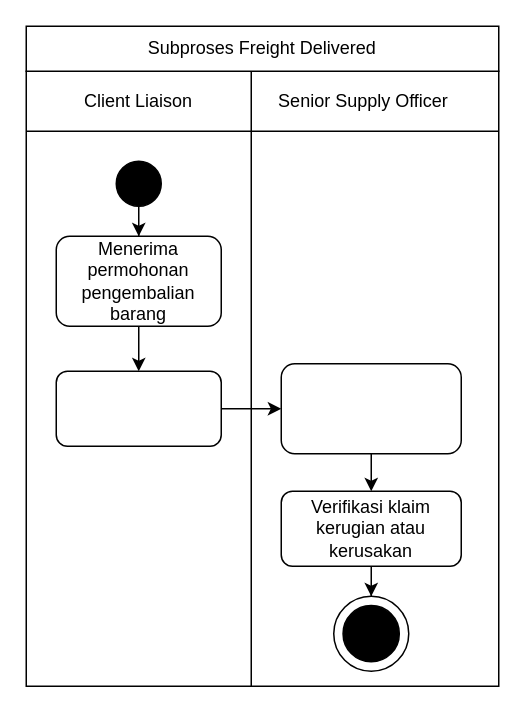
Some shapes in this 525 by 713 pixel diagram are drawn without their labels. Each missing label, with the centre of its shape:
"Membuat dokumen klaim kerugian atau kerusakan" goes at pixel 138 408.
"Verifikasi permohonan pengembalian barang" goes at pixel 370 408.
